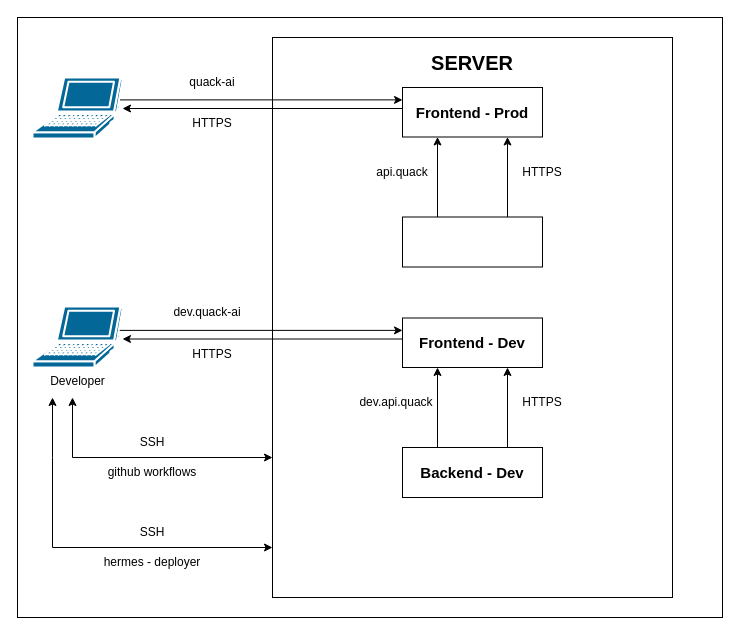
Image size: 740x635. Some labels were removed from this diagram. Here are the shapes that lost their labels. From the top down, the centre of each, then its label:
the point at 77,107: Client/Developer
the point at 472,241: Backend - Prod
